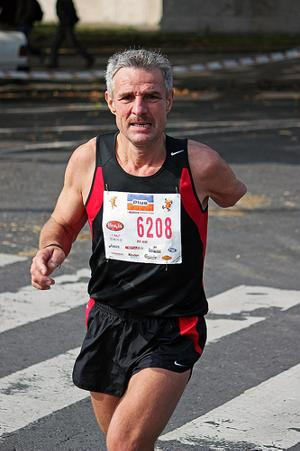person: (32, 49, 248, 450)
